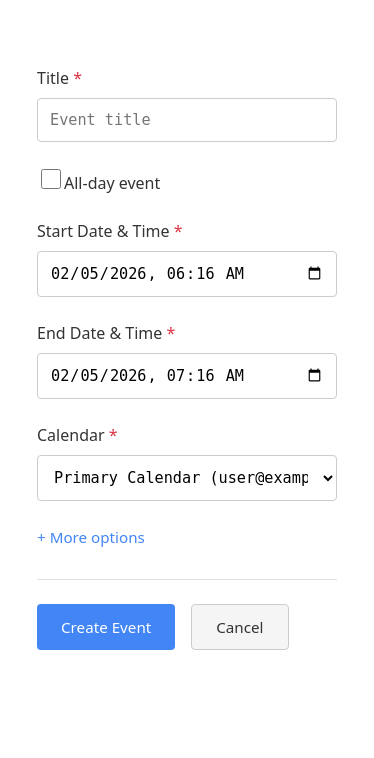
Test: EventForm Component › Attendees Management › should remove attendee when remove button is clicked
Click the button "+ More options" at (91, 537), box left=37, top=527, right=145, bottom=547
(page scrolled)
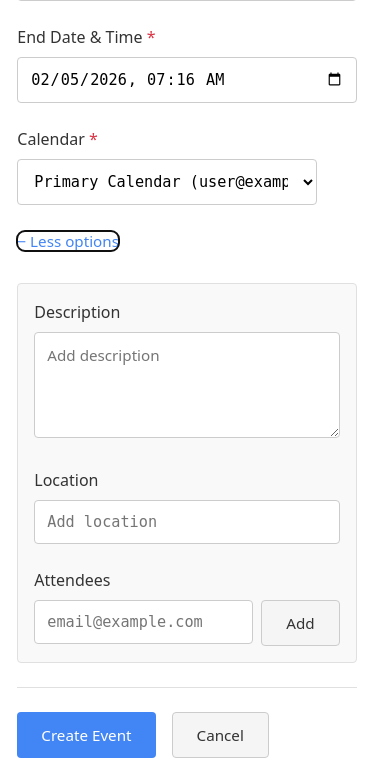
Add attendee first
Type "removable@example.com" into the field labelled "Attendees" at (144, 622), box left=34, top=600, right=253, bottom=644
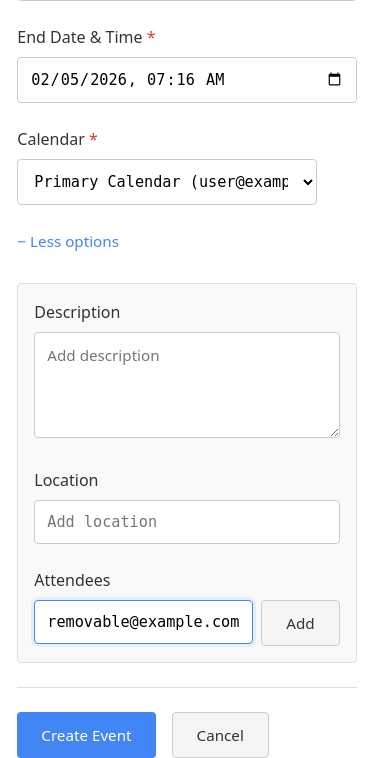
Click the button "Add" at (300, 623), box left=261, top=600, right=340, bottom=646
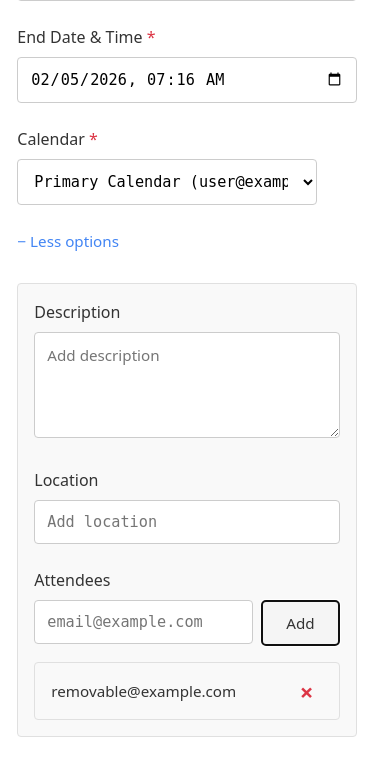
Then remove
Click the button named "remove removable@example.com" at (307, 691), box left=291, top=675, right=323, bottom=707
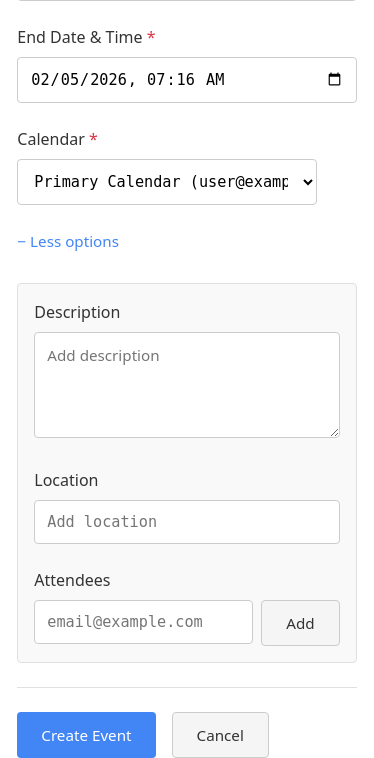
Now the text "removable@example.com" is gone
